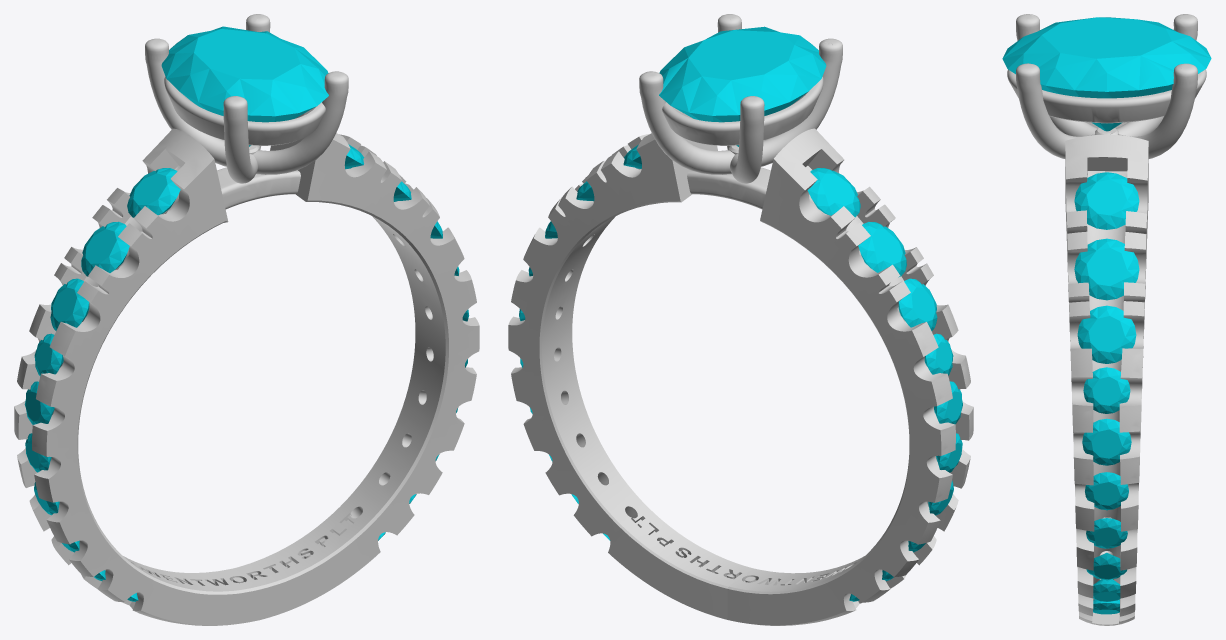
The model's file is RingOvalCenterAndShoulders.glb.
3 views of the same model, side by side, from view 1: azimuth 30°, elevation 25°; view 2: azimuth 150°, elevation 25°; view 3: azimuth 270°, elevation 25° (orthographic).
Visible parts, largest first — view 1: RingOvalCenterAndShoulders, MarkerGem, MarkerGem.003, MarkerGem.001, MarkerGem.005, MarkerGem.007, MarkerGem.009; view 2: RingOvalCenterAndShoulders, MarkerGem, MarkerGem.001, MarkerGem.003, MarkerGem.005, MarkerGem.007, MarkerGem.009; view 3: RingOvalCenterAndShoulders, MarkerGem, MarkerGem.004, MarkerGem.002, MarkerGem.006, MarkerGem.010, MarkerGem.008, MarkerGem.012, MarkerGem.014, MarkerGem.016, MarkerGem.018, MarkerGem.020.
Part boxes in pixels (x1,y1,x2,y2): RingOvalCenterAndShoulders: (14, 14, 479, 625); MarkerGem: (161, 26, 328, 146); MarkerGem.003: (81, 221, 129, 276); MarkerGem.001: (127, 168, 180, 217); MarkerGem.005: (50, 278, 89, 330); MarkerGem.007: (34, 333, 63, 376); MarkerGem.009: (24, 381, 54, 424); RingOvalCenterAndShoulders: (508, 14, 973, 625); MarkerGem: (659, 26, 826, 146); MarkerGem.001: (807, 168, 860, 217); MarkerGem.003: (858, 222, 906, 277); MarkerGem.005: (898, 278, 937, 331); MarkerGem.007: (924, 333, 953, 375); MarkerGem.009: (934, 381, 962, 424); RingOvalCenterAndShoulders: (1007, 14, 1206, 625); MarkerGem: (1002, 17, 1211, 131); MarkerGem.004: (1074, 238, 1139, 300); MarkerGem.002: (1074, 172, 1139, 229); MarkerGem.006: (1077, 305, 1136, 363); MarkerGem.010: (1082, 418, 1131, 465); MarkerGem.008: (1083, 367, 1130, 413); MarkerGem.012: (1085, 472, 1128, 510); MarkerGem.014: (1086, 518, 1127, 548); MarkerGem.016: (1086, 552, 1126, 580); MarkerGem.018: (1093, 579, 1120, 601); MarkerGem.020: (1093, 599, 1119, 614).
Size of the model in its own units: 0.9669 by 1.17 by 0.3932.
